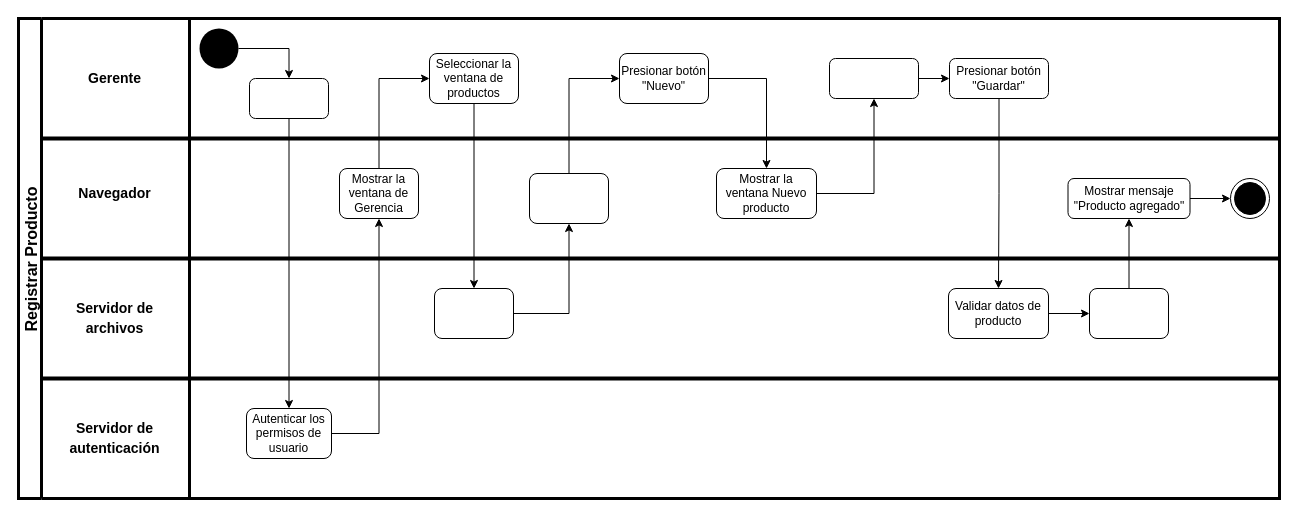
Some shapes in this 1300 by 518 pixel diagram are drawn without their labels. The shapes that lost their labels are listed below. From the top down, each one's box as (x1, y1, x2, y2) in pixels, then its label:
(248, 78, 328, 118): Ingresar su usuario
(828, 58, 918, 98): Ingresar datos de producto
(528, 172, 608, 224): Mostrar lista de productos
(434, 288, 514, 338): Consultar productos
(1088, 288, 1168, 338): Agregar productos al servidor
